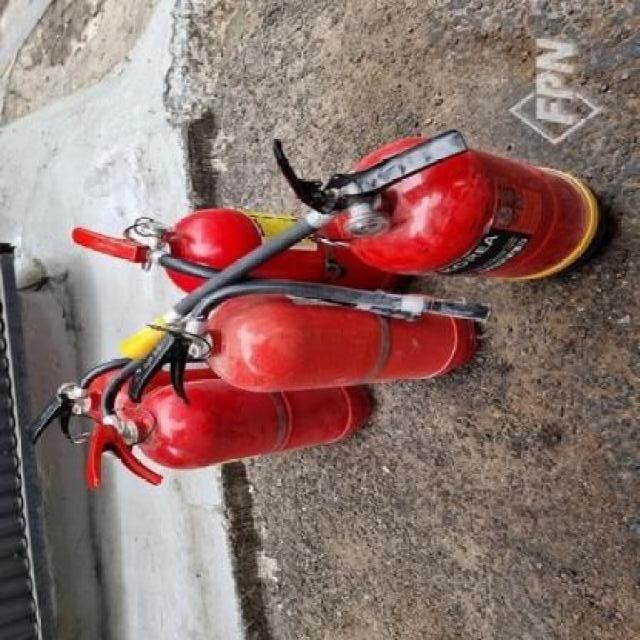fire extinguisher: (120, 130, 602, 359), (126, 282, 489, 406), (87, 358, 371, 490), (72, 208, 401, 295), (27, 357, 221, 446)
